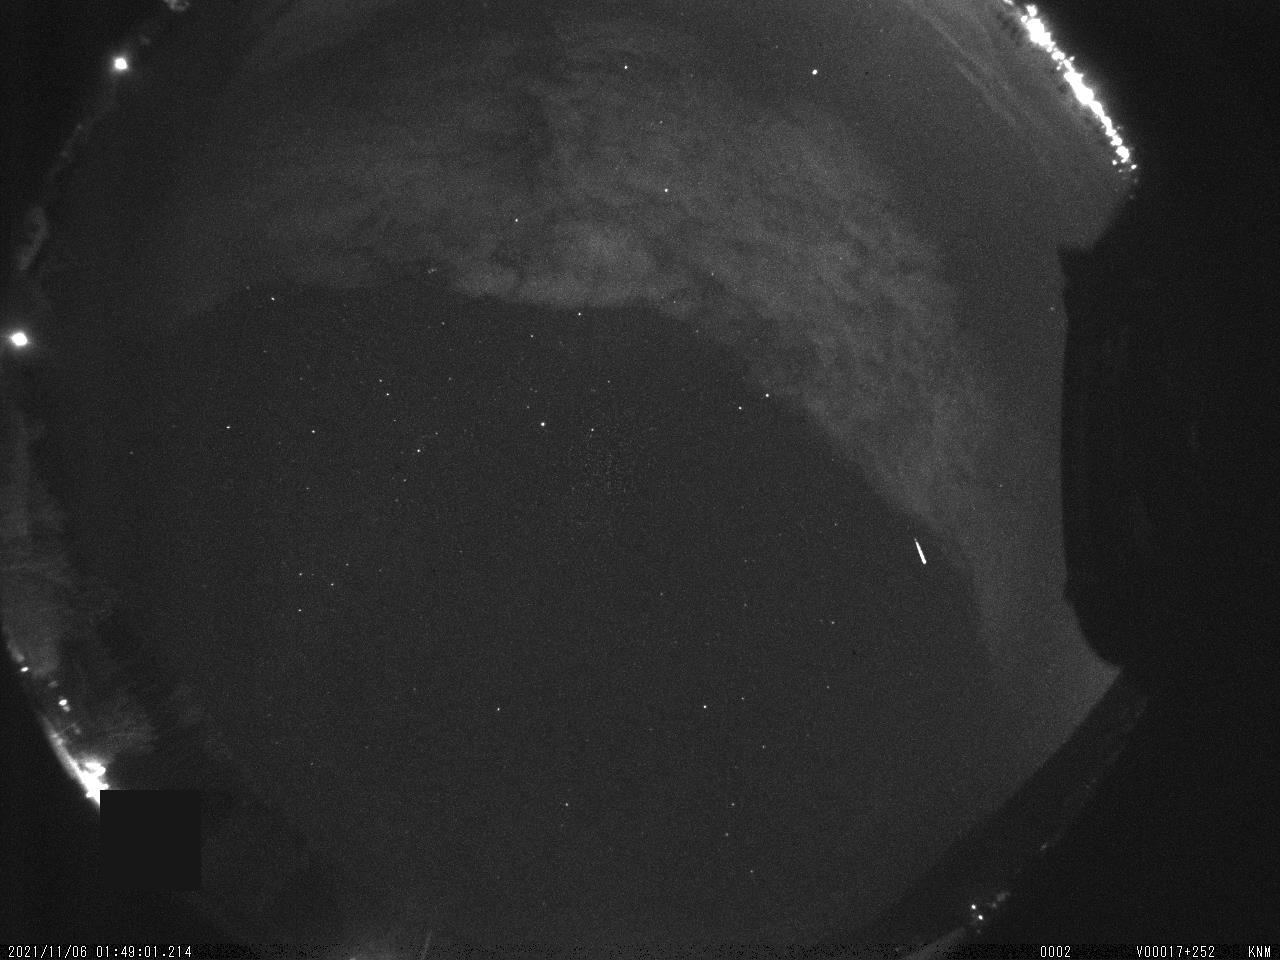meteor: (885, 523, 949, 587)
